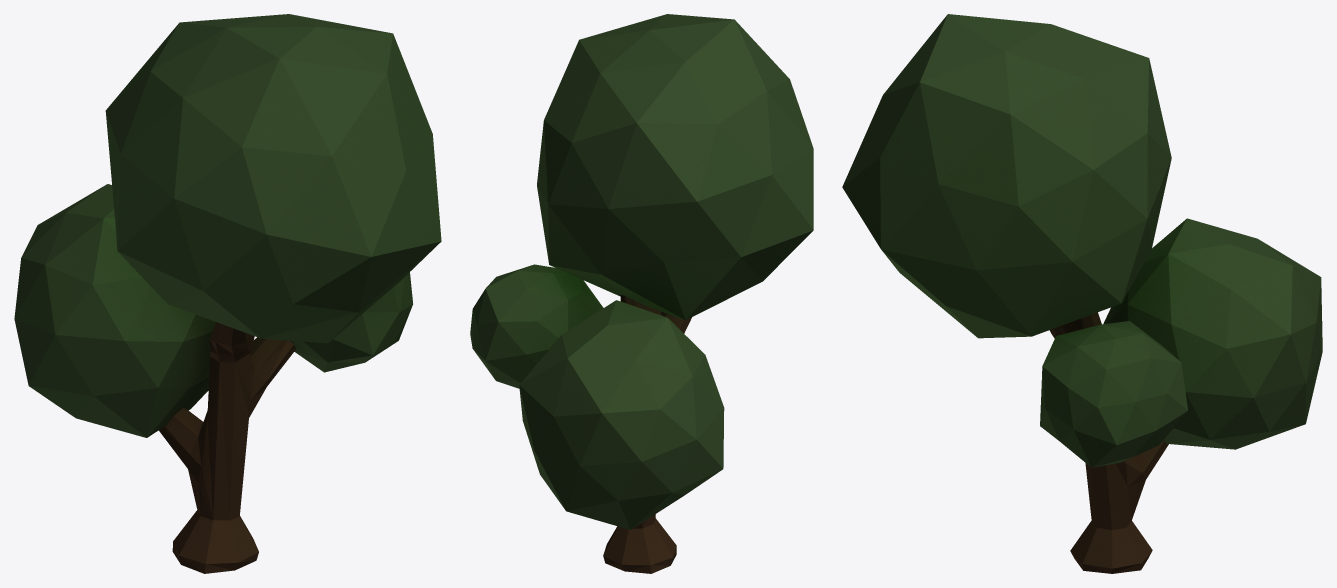
The model's file is tree5.obj.
3 views of the same model, side by side, from view 1: azimuth 30°, elevation 25°; view 2: azimuth 150°, elevation 25°; view 3: azimuth 270°, elevation 25° (orthographic). The views are drawn at different scales.
Parts seen in each view (by area): view 1: Tree5_Plane_Tree5_Plane_Leaves.001, Tree5_Plane_Tree5_Plane_Trunk.001; view 2: Tree5_Plane_Tree5_Plane_Leaves.001, Tree5_Plane_Tree5_Plane_Trunk.001; view 3: Tree5_Plane_Tree5_Plane_Leaves.001, Tree5_Plane_Tree5_Plane_Trunk.001.
Boxes of the visible parts, bbox=[...] form: Tree5_Plane_Tree5_Plane_Leaves.001: bbox=[14, 14, 441, 437]; Tree5_Plane_Tree5_Plane_Trunk.001: bbox=[159, 322, 295, 573]; Tree5_Plane_Tree5_Plane_Leaves.001: bbox=[470, 14, 813, 529]; Tree5_Plane_Tree5_Plane_Trunk.001: bbox=[603, 295, 691, 573]; Tree5_Plane_Tree5_Plane_Leaves.001: bbox=[842, 14, 1322, 467]; Tree5_Plane_Tree5_Plane_Trunk.001: bbox=[1049, 312, 1168, 573].
Bounding box in the file's own units: 4.54 × 7.14 × 5.82.
2 materials, 2 textured.
